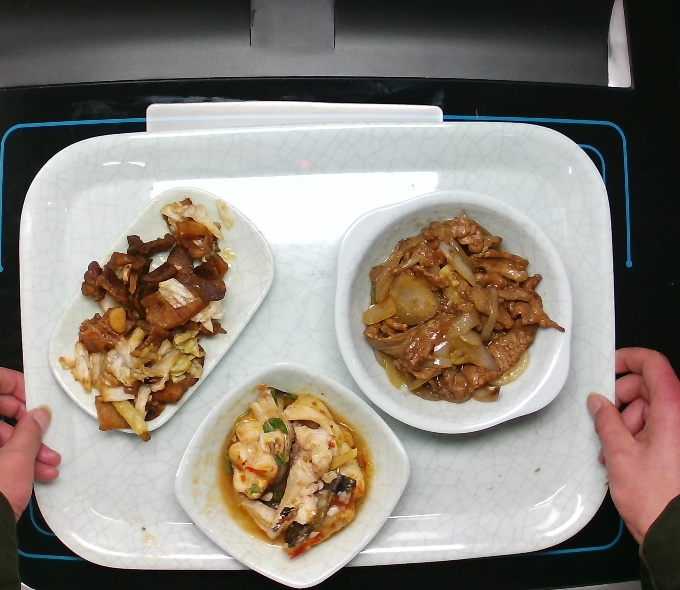wcq-DuoJiaoYuKuai: (228, 387, 370, 565)
wcq-PaoCaiRouPian: (59, 190, 259, 446)
wcq-YangCongRouPian: (352, 209, 572, 406)
